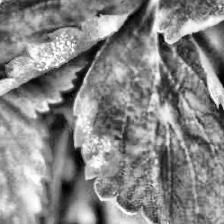Powdery Mildew Leaf: (71, 0, 224, 224), (0, 0, 149, 124), (154, 0, 224, 44)
